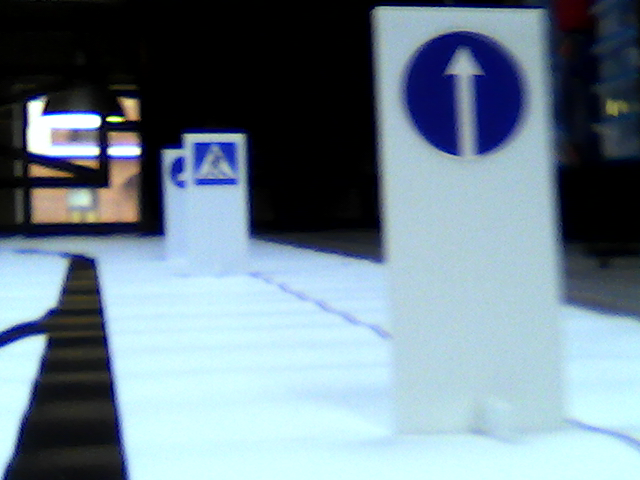forw: (398, 27, 530, 162)
pesh: (194, 142, 238, 186)
